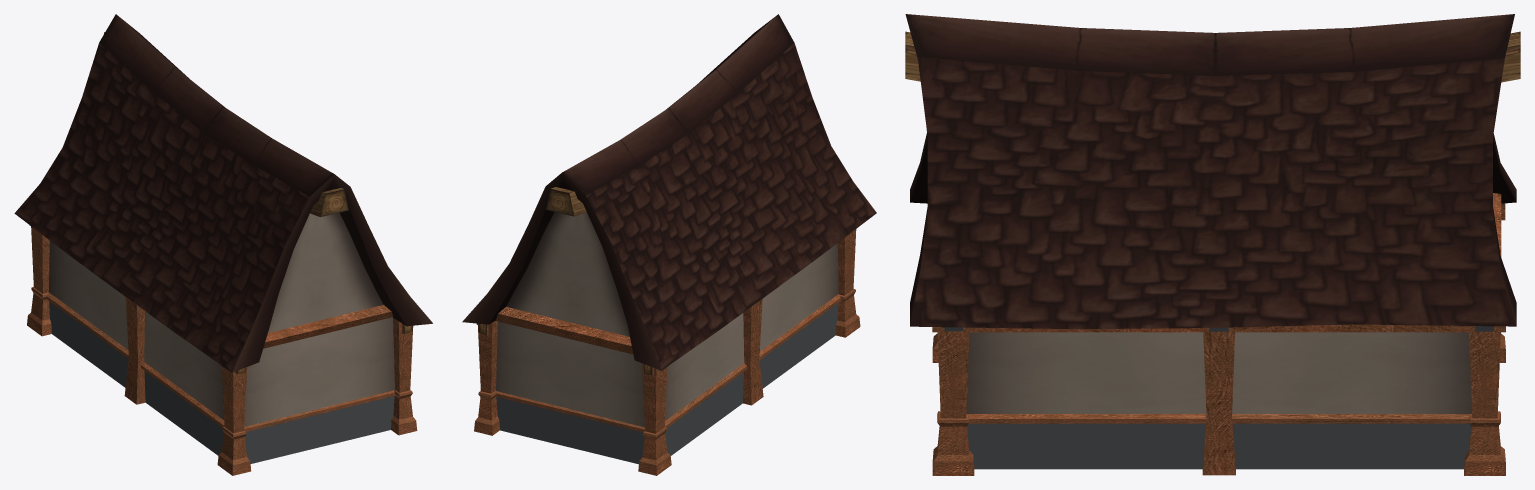
Rendered from fanasty_mod_I_house.fbx.
The picture shows the model from 3 angles, left to right: view 1: azimuth 30°, elevation 25°; view 2: azimuth 150°, elevation 25°; view 3: azimuth 270°, elevation 25°; orthographic projection. The views are drawn at different scales.
Visible parts, largest first — view 1: I_house; view 2: I_house; view 3: I_house.
Boxes of the visible parts, x1,y1,x2,y2 form: I_house: (14,14,432,475); I_house: (462,14,876,475); I_house: (905,14,1520,475).
Size of the model in its own units: 6.62 by 8.99 by 12.57.
